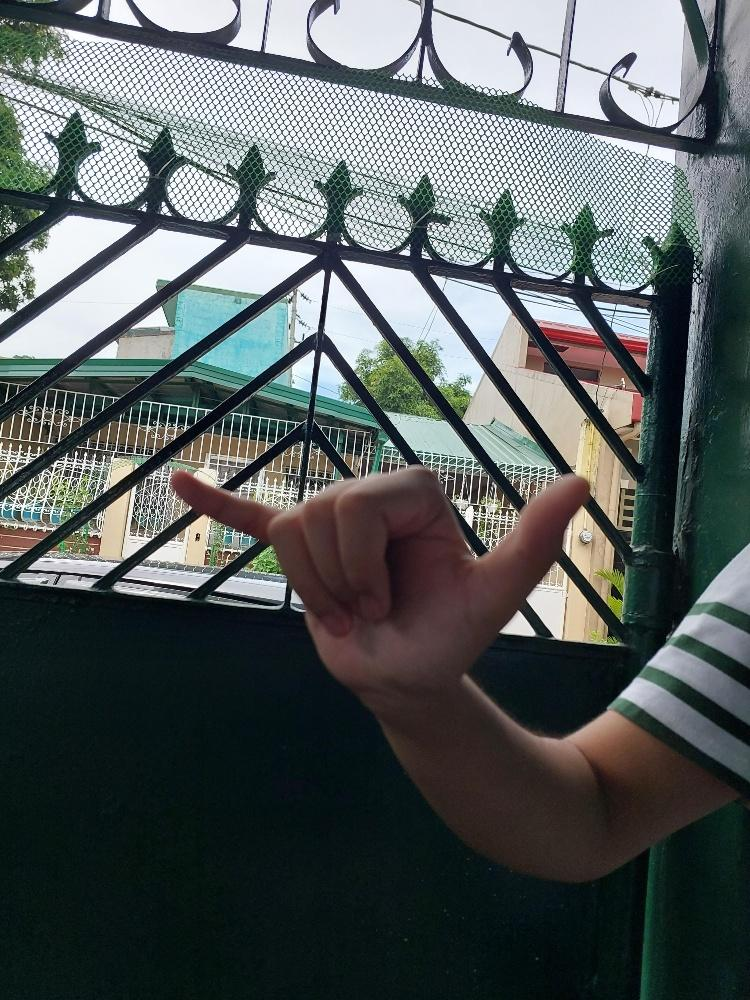y: (165, 464, 595, 698)
